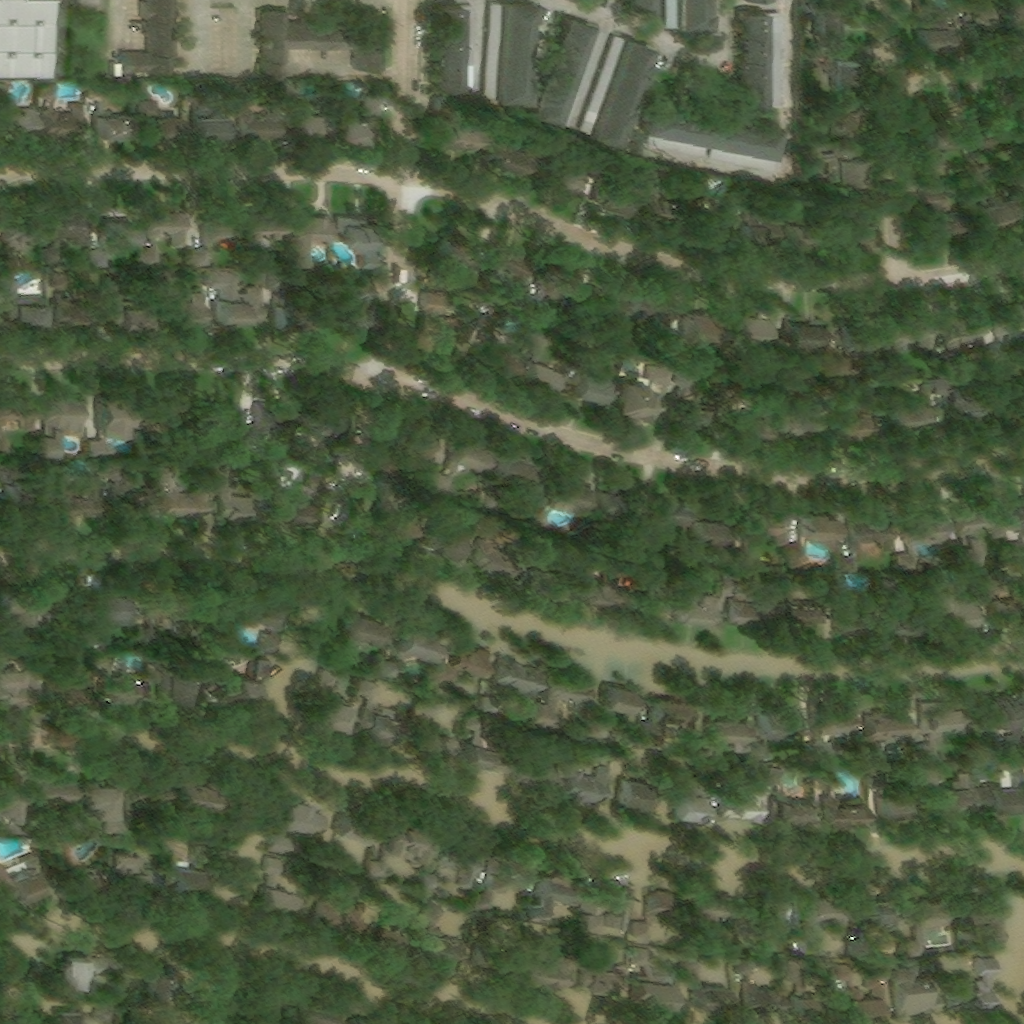major_damage: (331, 609, 392, 667), (527, 867, 585, 926), (563, 740, 613, 808), (796, 893, 852, 951), (583, 877, 638, 935), (240, 588, 286, 656), (466, 714, 514, 775), (945, 957, 998, 1012), (425, 843, 483, 892), (887, 963, 939, 1017), (406, 714, 460, 763), (905, 901, 950, 958), (921, 699, 960, 762), (549, 676, 598, 726), (436, 646, 495, 687), (59, 954, 107, 1003), (499, 661, 546, 709), (524, 955, 577, 996), (423, 519, 472, 560), (868, 710, 917, 750), (486, 856, 535, 896), (335, 808, 380, 850), (846, 971, 886, 1018), (930, 584, 975, 625), (387, 824, 433, 863), (860, 895, 903, 935), (975, 894, 1008, 946), (576, 564, 614, 608), (281, 795, 330, 829), (721, 787, 766, 824), (710, 714, 752, 753), (675, 592, 720, 628), (261, 858, 294, 905), (619, 777, 663, 812), (631, 975, 679, 1007), (314, 695, 354, 733), (758, 897, 786, 950), (214, 664, 251, 703), (605, 683, 646, 718), (399, 625, 438, 660), (814, 704, 860, 733), (159, 665, 192, 702), (627, 586, 667, 616), (989, 692, 1022, 728), (419, 928, 459, 957), (825, 800, 869, 826), (837, 613, 880, 638), (674, 789, 706, 822), (876, 792, 912, 820), (987, 782, 1020, 812), (775, 797, 813, 823), (697, 895, 721, 933), (418, 689, 446, 721), (358, 679, 388, 708), (807, 736, 836, 765), (302, 1003, 343, 1023), (761, 704, 782, 741), (792, 600, 822, 625), (472, 534, 497, 564), (932, 787, 960, 813), (887, 609, 916, 634), (190, 782, 221, 805), (173, 862, 205, 884), (419, 899, 446, 924), (317, 671, 345, 695), (727, 599, 749, 628), (641, 723, 662, 753), (647, 898, 670, 924), (632, 946, 654, 973), (675, 566, 699, 588), (768, 766, 791, 788), (724, 575, 747, 596), (751, 743, 774, 764), (998, 764, 1022, 782), (819, 767, 840, 787), (269, 835, 289, 856), (528, 543, 547, 564), (255, 656, 271, 680), (91, 1007, 115, 1023), (694, 984, 714, 1003), (836, 965, 857, 983), (58, 1009, 84, 1023), (588, 722, 608, 740), (535, 703, 553, 722), (637, 924, 658, 940), (778, 576, 796, 594), (922, 770, 942, 786), (619, 748, 635, 767), (840, 557, 856, 575), (353, 1013, 381, 1023), (793, 547, 809, 563), (671, 766, 688, 781), (737, 958, 752, 975), (382, 663, 400, 677), (872, 771, 888, 786), (484, 683, 497, 699), (958, 770, 970, 783), (759, 594, 772, 605)
minor_damage: (124, 463, 231, 520), (955, 506, 1008, 563), (36, 775, 81, 837), (85, 782, 129, 837), (747, 514, 795, 564), (372, 488, 416, 542), (398, 418, 445, 468), (2, 858, 54, 901), (905, 516, 953, 558), (826, 384, 867, 432), (445, 436, 489, 478), (850, 516, 896, 555), (803, 512, 842, 556), (549, 475, 596, 511), (96, 591, 137, 631), (0, 781, 29, 835), (146, 592, 193, 620), (2, 587, 38, 623), (655, 496, 692, 527), (53, 838, 92, 867), (884, 400, 930, 423), (245, 408, 271, 446), (203, 584, 237, 613), (499, 448, 533, 474), (672, 405, 703, 433), (105, 673, 133, 703), (695, 517, 726, 543), (991, 389, 1018, 418), (302, 413, 345, 431), (0, 667, 24, 698), (67, 492, 98, 512), (1007, 498, 1022, 537), (782, 408, 805, 433), (926, 378, 951, 396), (960, 395, 979, 415), (110, 851, 141, 863), (743, 412, 769, 426), (637, 530, 656, 549), (192, 436, 208, 458), (834, 361, 852, 376), (778, 360, 794, 376), (1011, 544, 1022, 562)
no_damage: (644, 98, 784, 177), (262, 5, 388, 82), (583, 37, 659, 150), (534, 16, 608, 129), (488, 1, 540, 103), (739, 8, 785, 114), (125, 0, 184, 81), (0, 0, 50, 81), (437, 1, 476, 86), (615, 366, 673, 423), (812, 141, 875, 187), (43, 209, 91, 267), (344, 222, 395, 274), (920, 120, 962, 183), (288, 211, 337, 265), (89, 394, 134, 452), (211, 274, 261, 323), (40, 399, 88, 450), (92, 218, 139, 268), (421, 293, 465, 345), (520, 332, 559, 390), (530, 157, 587, 196), (432, 240, 473, 293), (334, 283, 379, 331), (486, 135, 536, 178), (943, 316, 989, 358), (437, 117, 484, 157), (917, 1, 955, 50), (492, 243, 536, 285), (969, 116, 1017, 153), (148, 210, 191, 250), (667, 0, 717, 31), (737, 214, 783, 247), (734, 311, 774, 348), (979, 195, 1020, 229), (6, 217, 43, 254), (892, 317, 933, 350), (654, 197, 695, 230), (597, 180, 634, 216), (0, 400, 40, 433), (245, 208, 286, 240), (47, 106, 90, 136), (574, 369, 614, 401), (818, 5, 843, 55), (243, 112, 283, 143), (537, 264, 572, 298), (175, 293, 212, 323), (97, 112, 136, 139), (788, 321, 830, 346), (827, 58, 856, 93), (485, 343, 520, 372), (337, 112, 370, 142), (992, 304, 1022, 335), (697, 216, 731, 243), (366, 89, 398, 116), (834, 101, 855, 142), (196, 111, 229, 137), (843, 326, 882, 347), (685, 309, 712, 338), (571, 337, 598, 365), (204, 215, 231, 242), (846, 221, 875, 246), (6, 111, 40, 132), (788, 222, 822, 243), (883, 356, 909, 380), (631, 0, 659, 22), (108, 276, 124, 314), (802, 98, 825, 122), (641, 164, 664, 188), (991, 346, 1014, 368), (925, 216, 948, 237), (968, 177, 988, 201), (1, 275, 21, 299), (193, 249, 214, 271), (16, 302, 47, 316), (480, 315, 496, 340), (237, 85, 258, 104), (968, 158, 990, 176), (122, 303, 150, 317), (284, 87, 304, 106), (925, 188, 946, 206), (266, 273, 284, 293), (295, 111, 318, 126), (672, 344, 692, 361), (50, 273, 67, 292), (43, 85, 61, 102), (622, 332, 639, 350), (92, 84, 108, 101), (952, 0, 982, 9), (472, 282, 488, 298), (0, 85, 15, 102), (522, 300, 537, 316), (140, 101, 157, 115), (614, 290, 627, 305), (188, 94, 202, 105), (830, 0, 854, 3)
